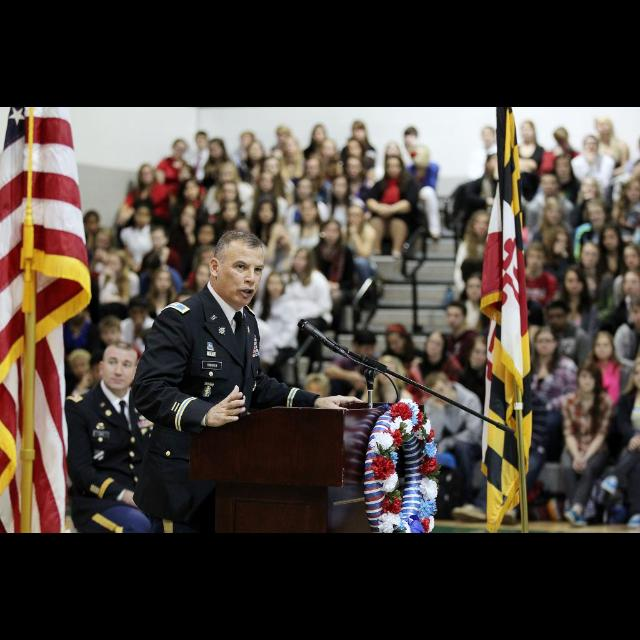Flower: (370, 402, 438, 534), (392, 405, 411, 419)
